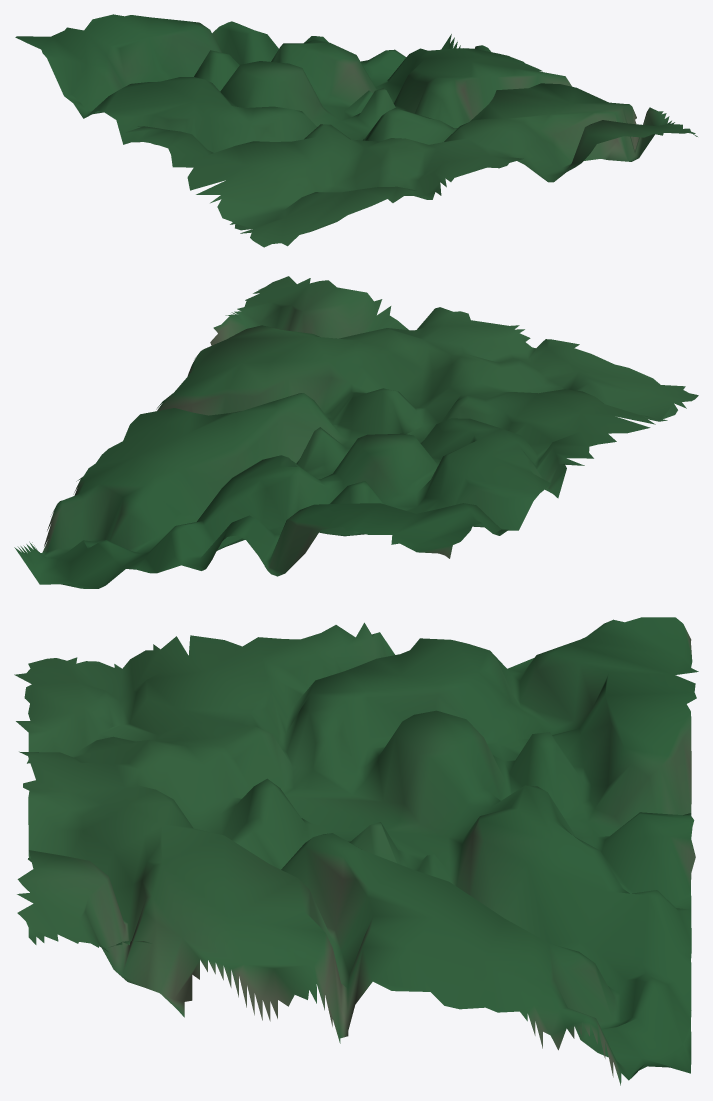
Rendered from payo_land_xm1_y6_lod2.glb.
3 views of the same model, one above another, from view 1: azimuth 30°, elevation 25°; view 2: azimuth 150°, elevation 25°; view 3: azimuth 270°, elevation 25° (orthographic). The views are drawn at different scales.
Visible parts, largest first — view 1: payo_land_xm1_y6; view 2: payo_land_xm1_y6; view 3: payo_land_xm1_y6.
Part boxes in pixels (bbox=[...]): payo_land_xm1_y6: bbox=[15, 14, 697, 247]; payo_land_xm1_y6: bbox=[14, 276, 698, 588]; payo_land_xm1_y6: bbox=[14, 617, 698, 1085].
Bounding box in the file's own units: 266 × 79.94 × 264.
